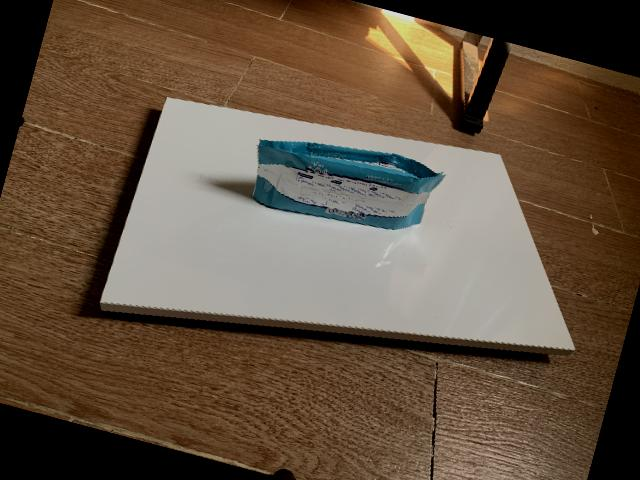Let-green_alcohol_wipes: (247, 135, 440, 231)
